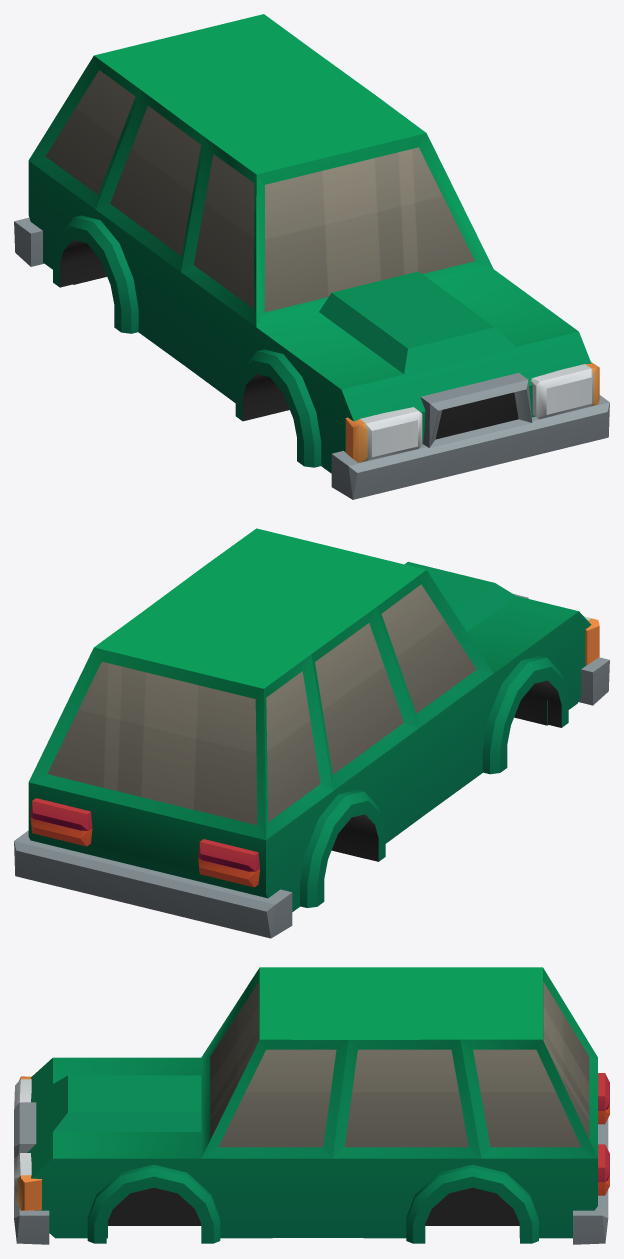
The model's file is car_stationwagon.obj.
3 views of the same model, one above another, from view 1: azimuth 30°, elevation 25°; view 2: azimuth 150°, elevation 25°; view 3: azimuth 270°, elevation 25° (orthographic). The views are drawn at different scales.
Size of the model in its own units: 0.419 by 0.38 by 0.9381.
Materials: 1 (1 with a texture image).
